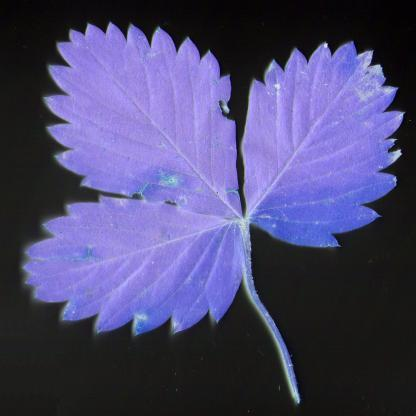Strawberry leaf: (40, 16, 249, 226), (247, 31, 412, 248), (20, 196, 256, 338)
